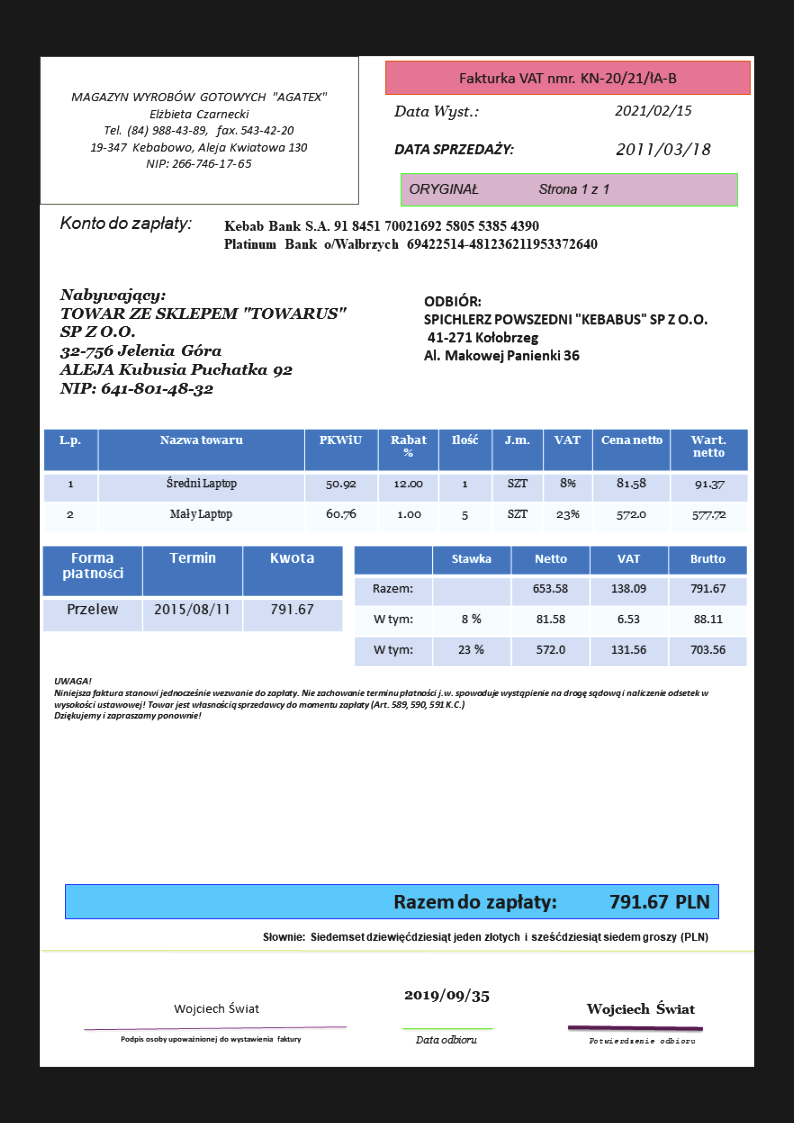Table: (42, 425, 749, 534), (351, 546, 749, 669), (42, 544, 344, 635)
TextBox: (57, 286, 348, 401), (51, 674, 711, 722), (67, 89, 332, 171), (420, 291, 714, 364), (220, 215, 600, 255), (258, 926, 711, 945), (388, 888, 712, 914), (454, 68, 680, 87), (407, 179, 616, 198), (54, 212, 194, 233), (391, 138, 514, 161), (580, 998, 699, 1019), (117, 1033, 305, 1045), (613, 137, 714, 159), (614, 98, 693, 122), (400, 985, 493, 1005), (391, 101, 483, 121), (168, 998, 261, 1017), (585, 1034, 698, 1047), (413, 1030, 479, 1047)
